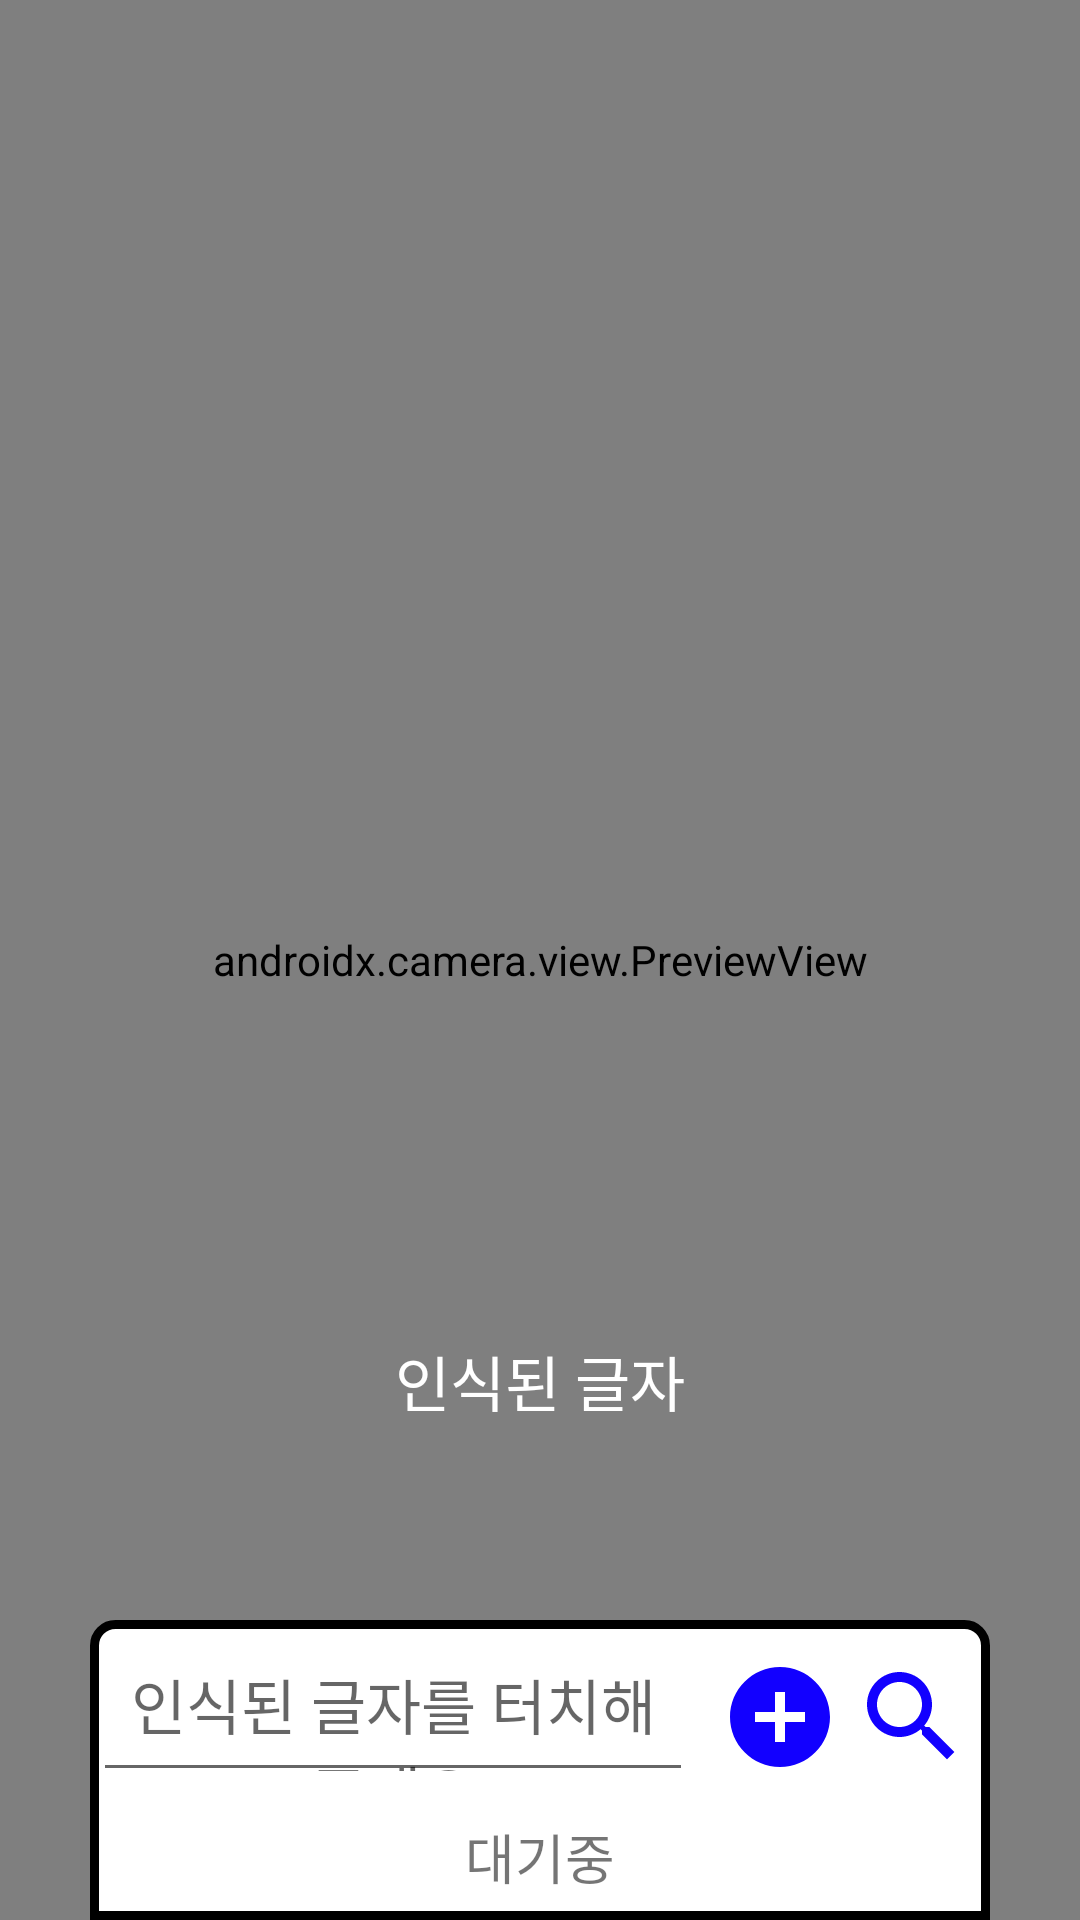

Icons on this 1080w x 1920h Android screen, each with its box as (x1,y1,x2,y2):
add circle: (730,1667,830,1767)
search: (867,1672,954,1759)
